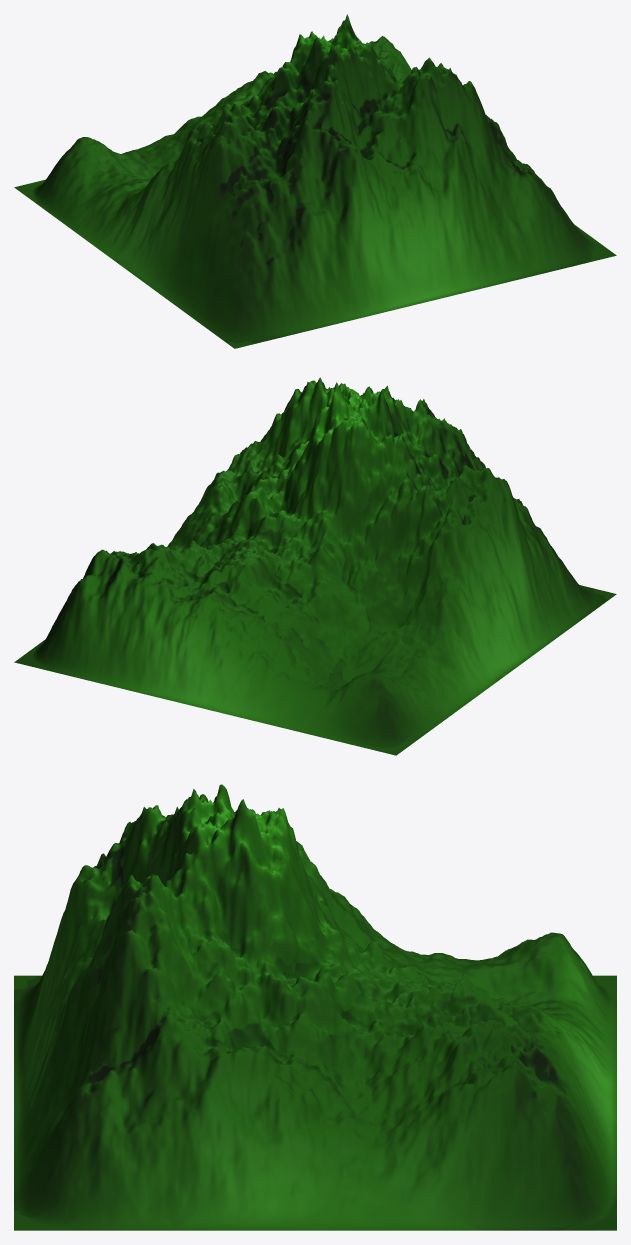
File: Mountain.fbx
3 renders of one model, top to bottom at view 1: azimuth 30°, elevation 25°; view 2: azimuth 150°, elevation 25°; view 3: azimuth 270°, elevation 25°, orthographic. The views are drawn at different scales.
Visible parts, largest first — view 1: Landscape.004; view 2: Landscape.004; view 3: Landscape.004.
Boxes of the visible parts, box(x1,y1,x2,y2) form: Landscape.004: box(14, 14, 616, 348); Landscape.004: box(14, 377, 616, 755); Landscape.004: box(14, 784, 616, 1230).
Size of the model in its own units: 100 by 56.36 by 100.
